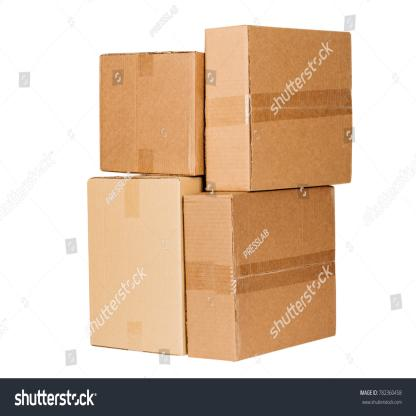box: (226, 189, 336, 364), (247, 21, 353, 189), (88, 178, 186, 358), (98, 53, 195, 174)
